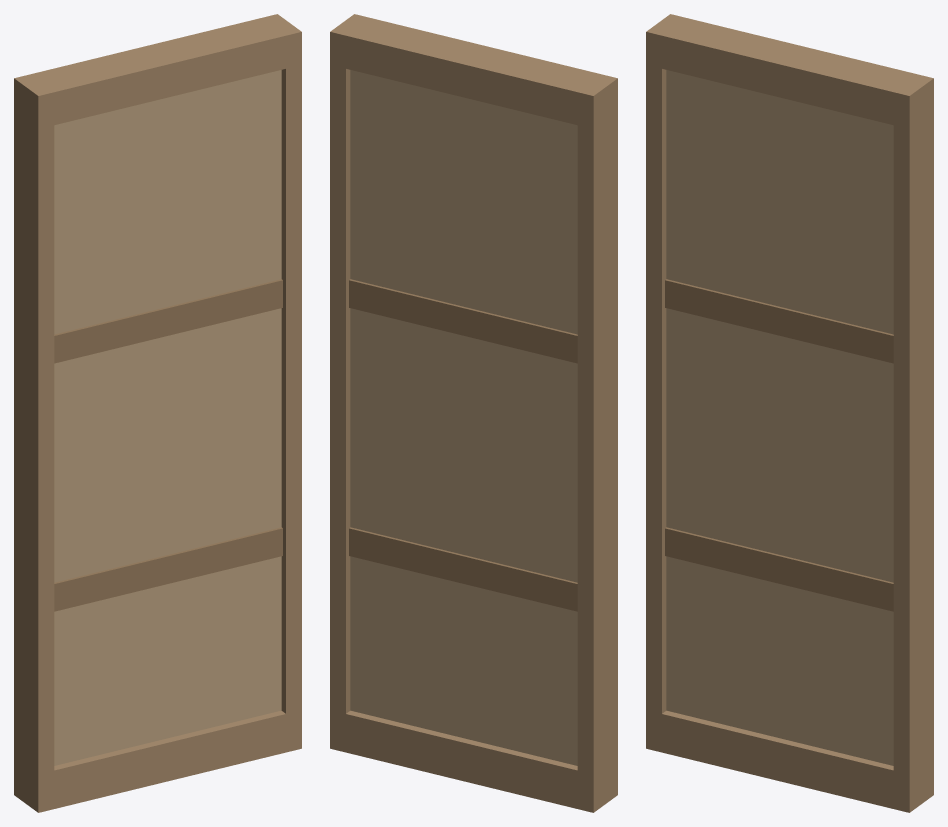
The model's file is 18-Casas_pared_madera.glb.
3 renders of one model, left to right at view 1: azimuth 30°, elevation 25°; view 2: azimuth 150°, elevation 25°; view 3: azimuth 330°, elevation 25°, orthographic.
Parts seen in each view (by area): view 1: SM_Pared_M_Pared_Madera_Panel, SM_Pared_M_Pared_Madera_Poste, SM_Pared_M_Pared_Madera_Travesano; view 2: SM_Pared_M_Pared_Madera_Panel, SM_Pared_M_Pared_Madera_Poste, SM_Pared_M_Pared_Madera_Travesano; view 3: SM_Pared_M_Pared_Madera_Panel, SM_Pared_M_Pared_Madera_Poste, SM_Pared_M_Pared_Madera_Travesano.
Boxes of the visible parts, x1,y1,x2,y2 form: SM_Pared_M_Pared_Madera_Panel: (54, 70, 281, 765); SM_Pared_M_Pared_Madera_Poste: (14, 14, 301, 812); SM_Pared_M_Pared_Madera_Travesano: (54, 279, 282, 611); SM_Pared_M_Pared_Madera_Panel: (350, 70, 577, 765); SM_Pared_M_Pared_Madera_Poste: (330, 14, 617, 812); SM_Pared_M_Pared_Madera_Travesano: (349, 279, 577, 611); SM_Pared_M_Pared_Madera_Panel: (666, 70, 893, 765); SM_Pared_M_Pared_Madera_Poste: (646, 14, 933, 812); SM_Pared_M_Pared_Madera_Travesano: (665, 279, 893, 611).
Size of the model in its own units: 1 by 2.6 by 0.16.
